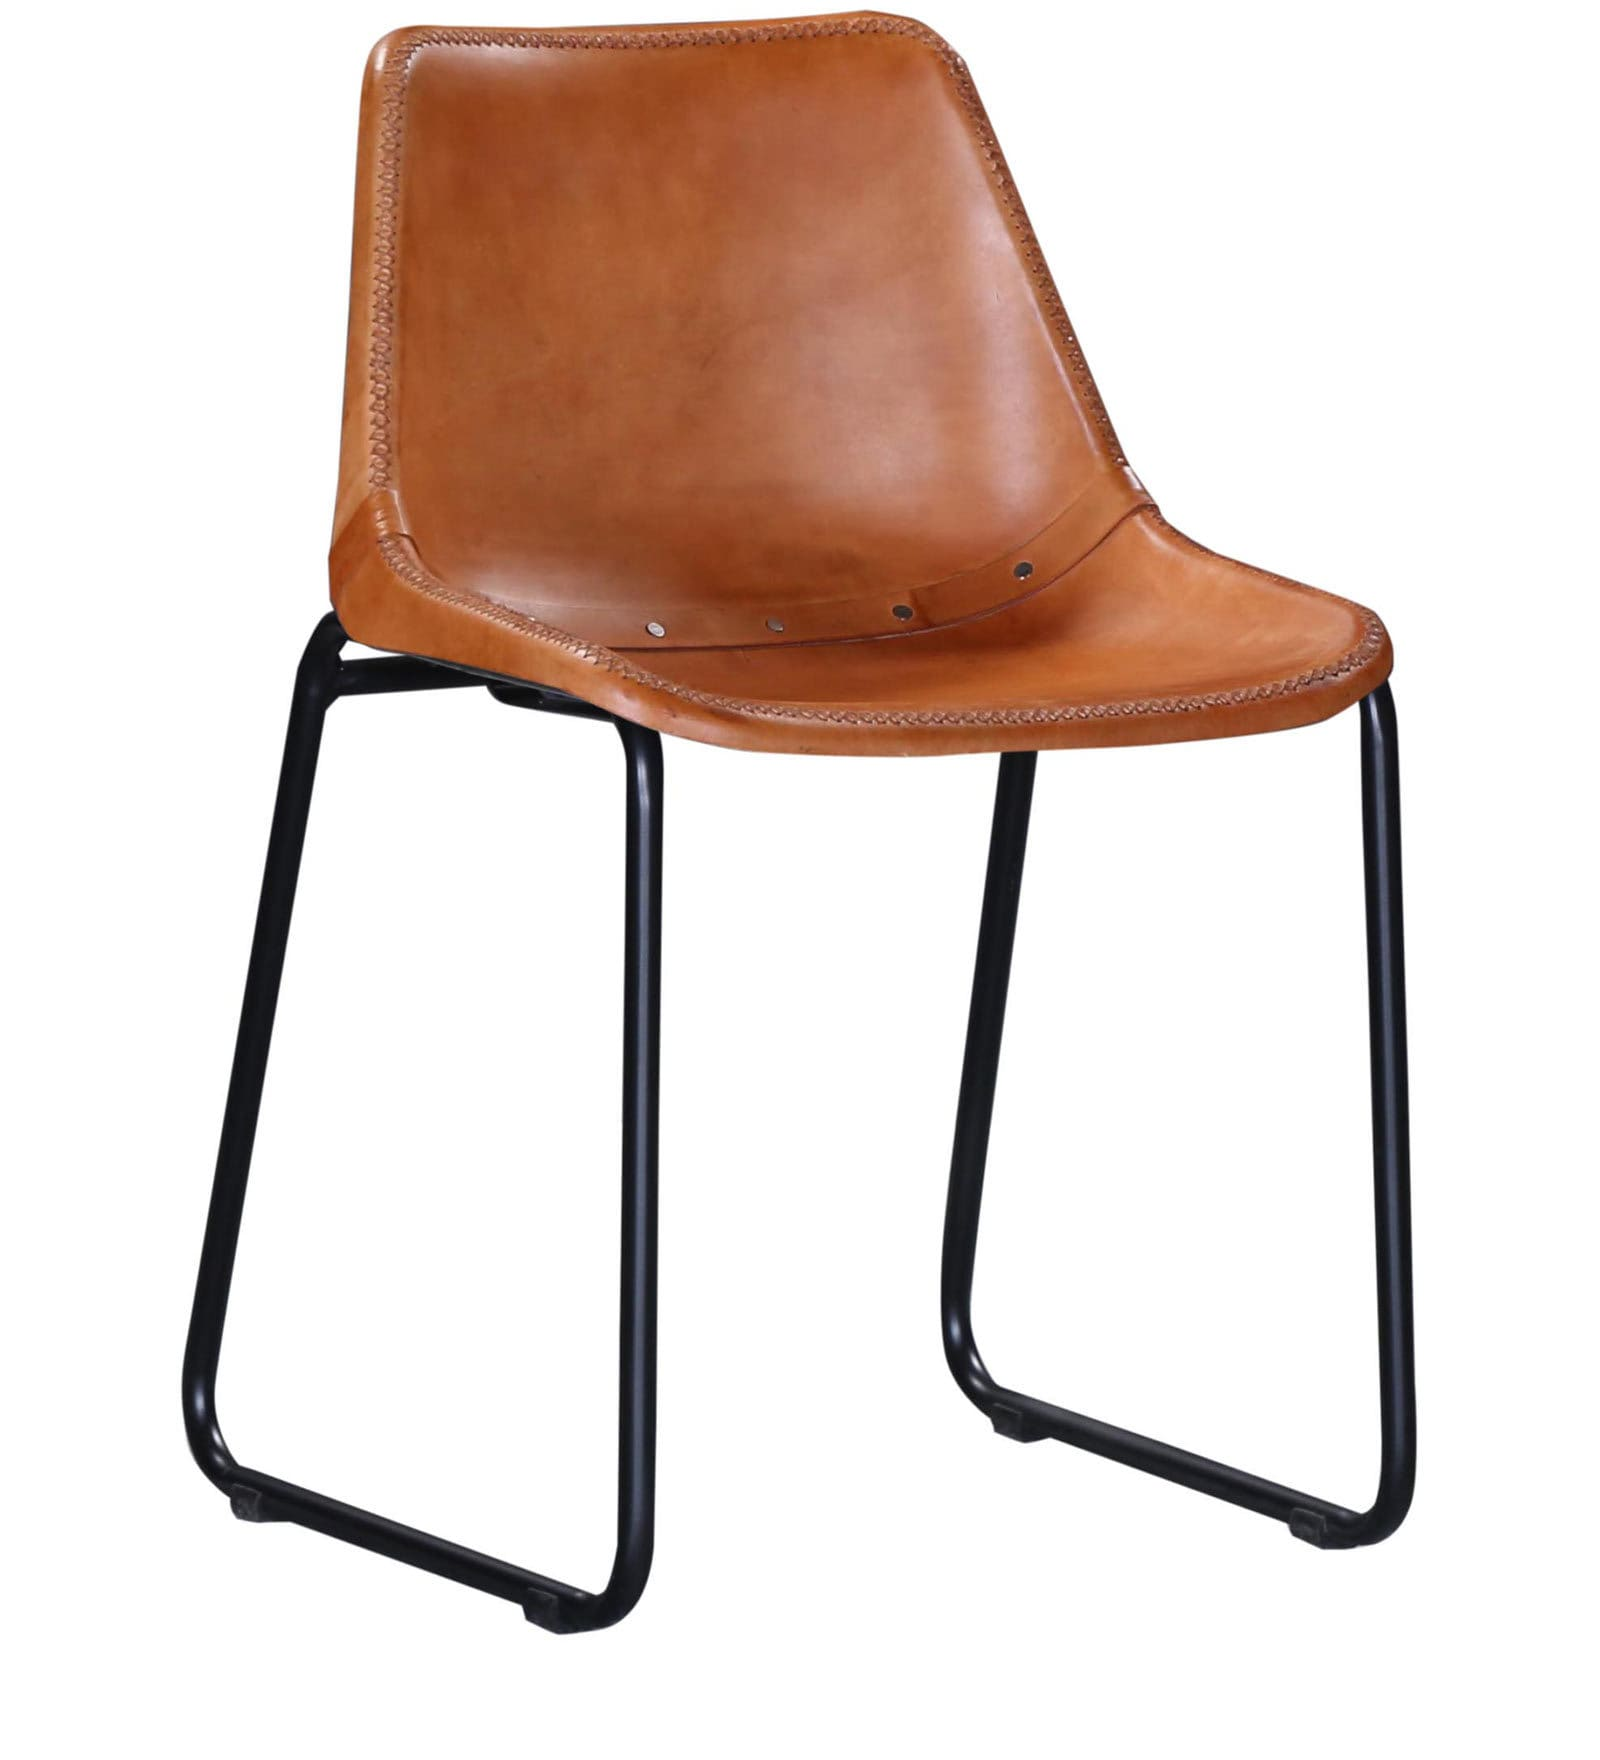Medina Natural Color Leather Accent Chair by Bohemiana: (162, 9, 1447, 1634)
